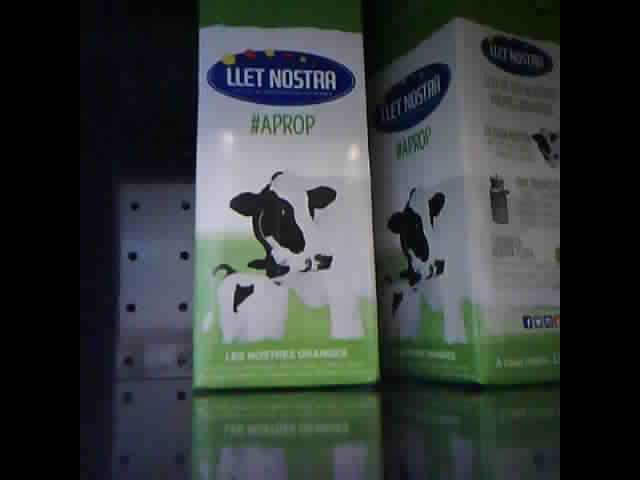leche: (192, 4, 378, 392), (370, 6, 560, 384)
